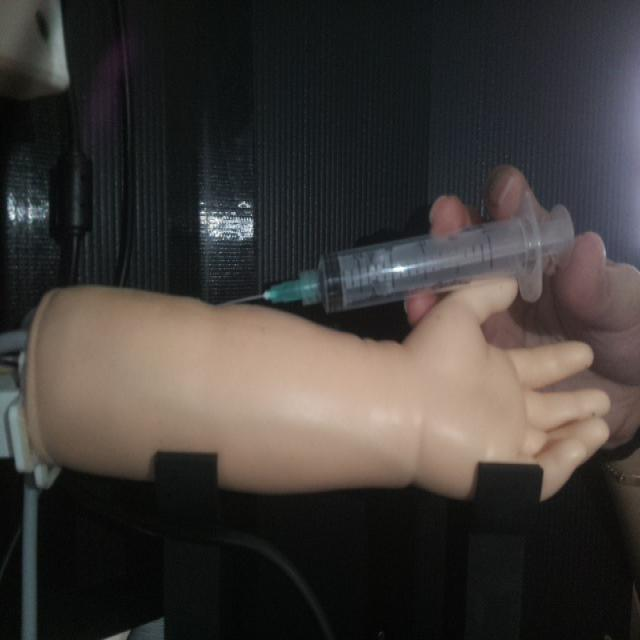Outside: (231, 184, 576, 316)
